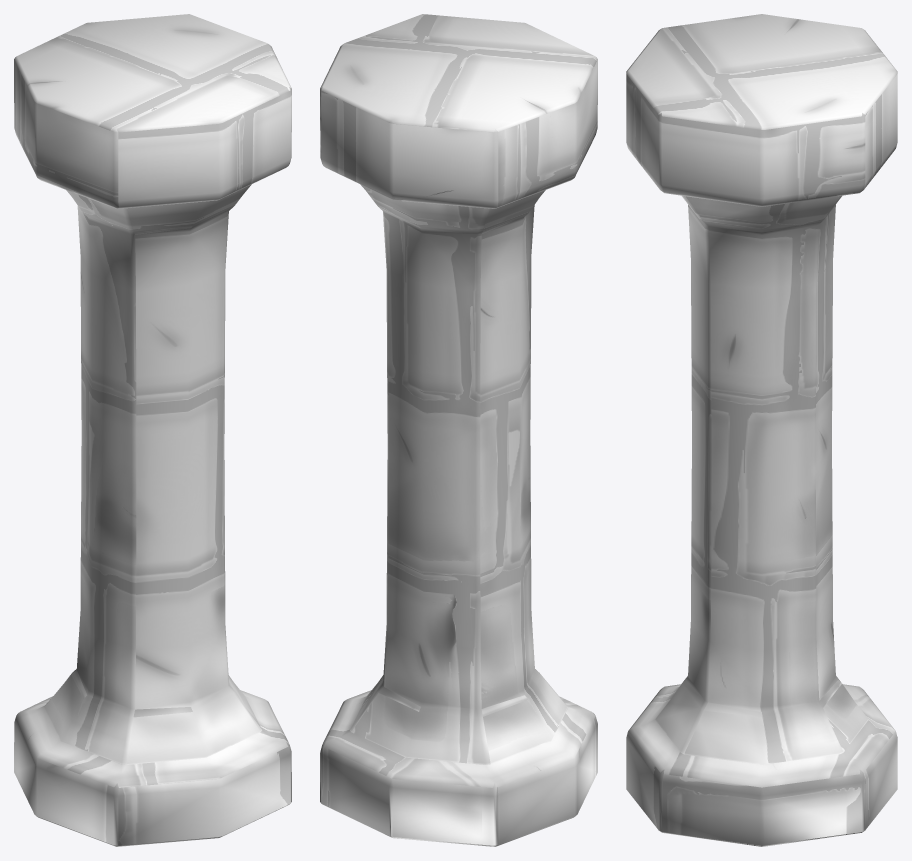
File: Tower.obj
The picture shows the model from 3 angles, left to right: view 1: azimuth 30°, elevation 25°; view 2: azimuth 150°, elevation 25°; view 3: azimuth 270°, elevation 25°; orthographic projection.
Visible parts, largest first — view 1: Cube_Cube.001; view 2: Cube_Cube.001; view 3: Cube_Cube.001.
Part boxes in pixels (x1,y1,x2,y2): Cube_Cube.001: [14, 14, 291, 846]; Cube_Cube.001: [320, 14, 597, 846]; Cube_Cube.001: [626, 14, 897, 846].
Size of the model in its own units: 3.32 by 9.73 by 3.32.
